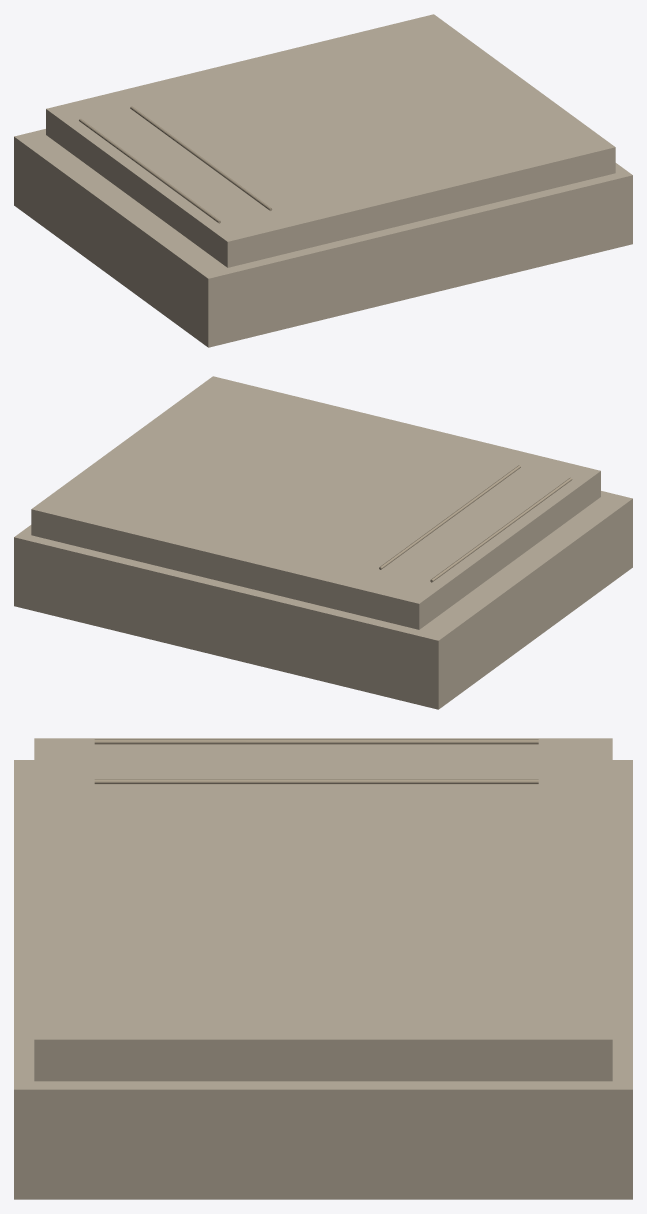
File: fold-lightweight-54306ba8ee.glb
3 renders of one model, top to bottom at view 1: azimuth 30°, elevation 25°; view 2: azimuth 150°, elevation 25°; view 3: azimuth 270°, elevation 25°, orthographic. The views are drawn at different scales.
Parts seen in each view (by area): view 1: textile, sole; view 2: textile, sole; view 3: textile, sole.
Part boxes in pixels (<box>): textile: <box>14,14,632,347</box>; sole: <box>79,106,272,223</box>; textile: <box>14,376,632,709</box>; sole: <box>379,465,572,582</box>; textile: <box>14,738,632,1199</box>; sole: <box>94,739,538,784</box>.
Size of the model in its own units: 0.29 by 0.0648 by 0.23.
